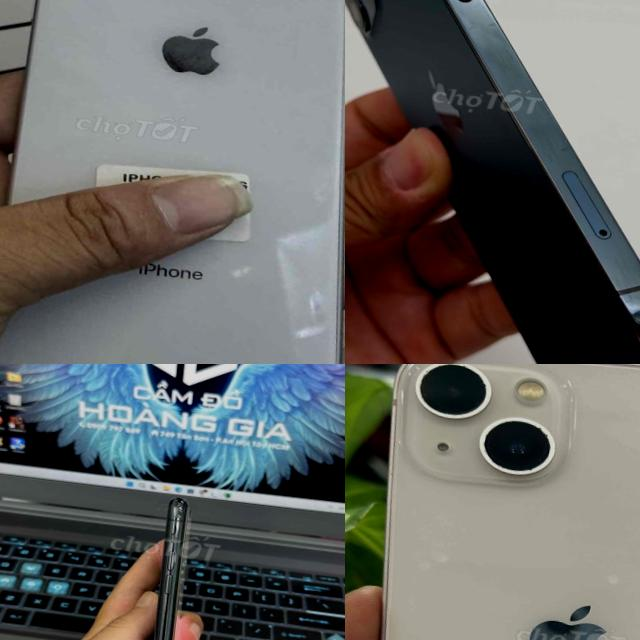gen_11: (153, 497, 189, 640)
gen_12_13: (345, 0, 640, 364), (345, 364, 640, 640)
gen_7_8: (0, 0, 345, 364)
